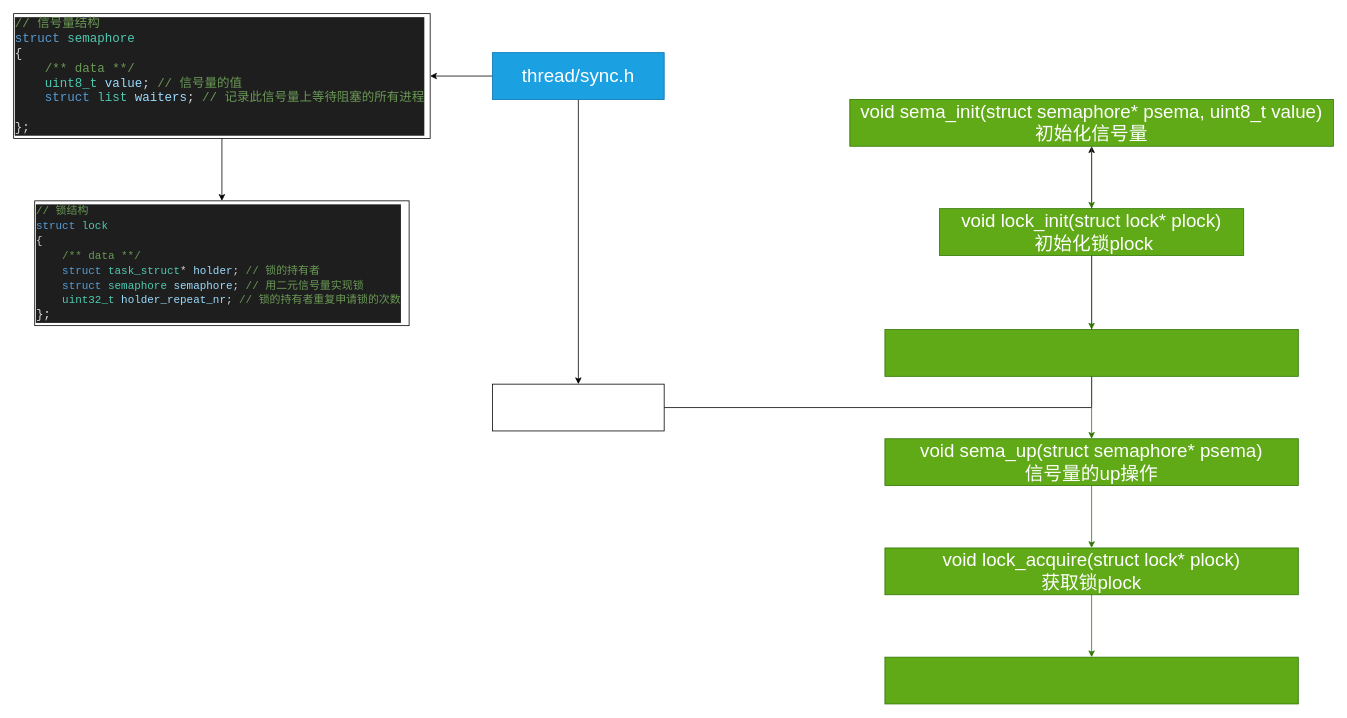
The diagram is 1347 pixels wide and 718 high, and some of its shapes have lost their labels. Here are the shapes that lost their labels. From the top down, the centre of each, then its label:
At (1091,352): "void sema_down(struct semaphore* psema) 信号量down操作".
At (578,407): "thread/sync.c".
At (1091,680): "void lock_release(struct lock* plock) 释放锁plock".
